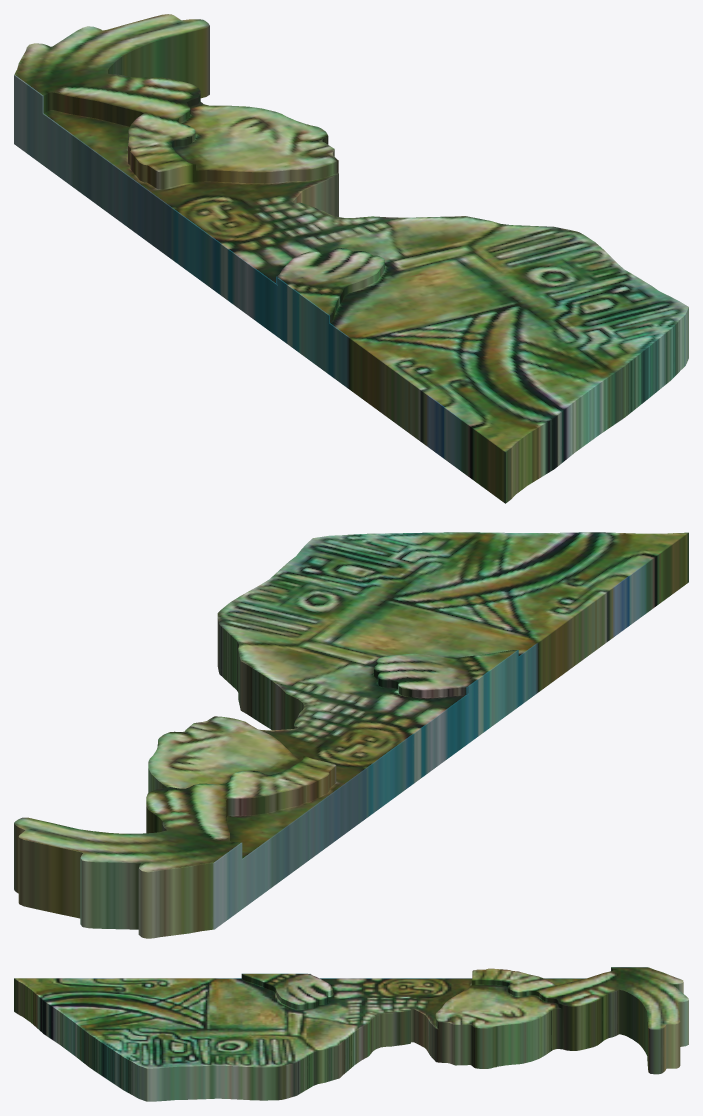
The model's file is sin titulo odontologia 1.dae.
The picture shows the model from 3 angles, top to bottom: view 1: azimuth 30°, elevation 25°; view 2: azimuth 150°, elevation 25°; view 3: azimuth 270°, elevation 25°; orthographic projection. The views are drawn at different scales.
Visible parts, largest first — view 1: SketchUp; view 2: SketchUp; view 3: SketchUp.
Boxes of the visible parts, box(x1,y1,x2,y2) form: SketchUp: box(14, 14, 688, 503); SketchUp: box(14, 532, 688, 938); SketchUp: box(14, 967, 688, 1101).
Size of the model in its own units: 14.97 by 47.32 by 3.44.
2 materials, 1 textured.
